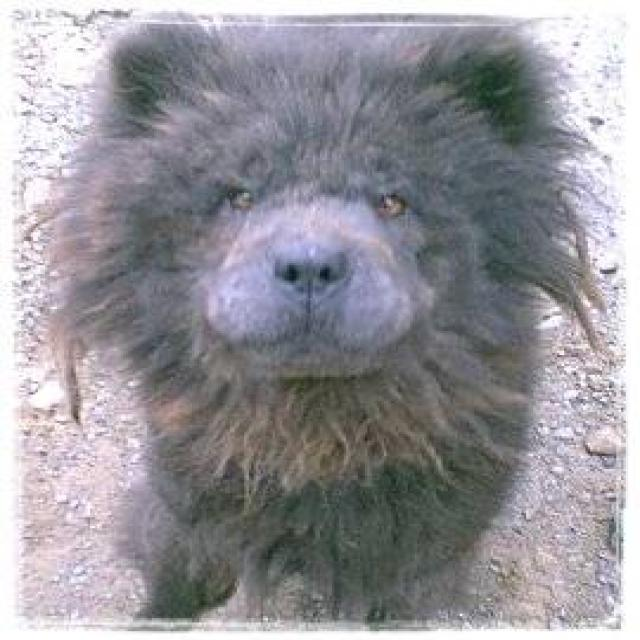dog: (36, 11, 612, 625)
